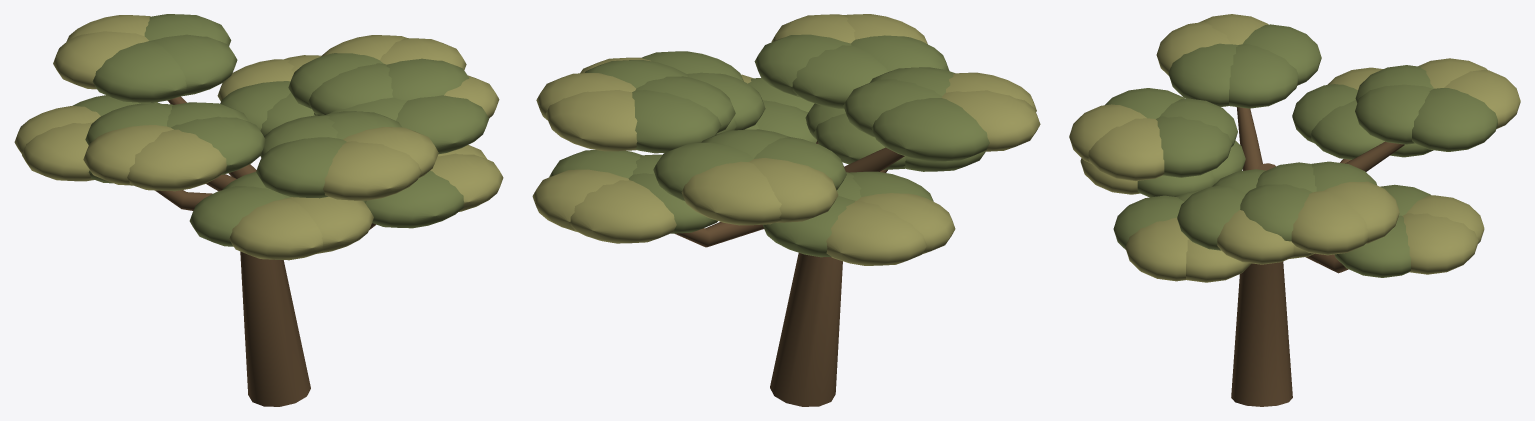
The model's file is kharon_acacia.glb.
The picture shows the model from 3 angles, left to right: view 1: azimuth 30°, elevation 25°; view 2: azimuth 150°, elevation 25°; view 3: azimuth 270°, elevation 25°; orthographic projection. The views are drawn at different scales.
Parts seen in each view (by area): view 1: kharon_acacia; view 2: kharon_acacia; view 3: kharon_acacia.
Boxes of the visible parts, x1,y1,x2,y2 form: kharon_acacia: [14, 14, 503, 406]; kharon_acacia: [532, 14, 1040, 406]; kharon_acacia: [1069, 14, 1520, 406].
Bounding box in the file's own units: 15.34 × 10.83 × 14.61.
